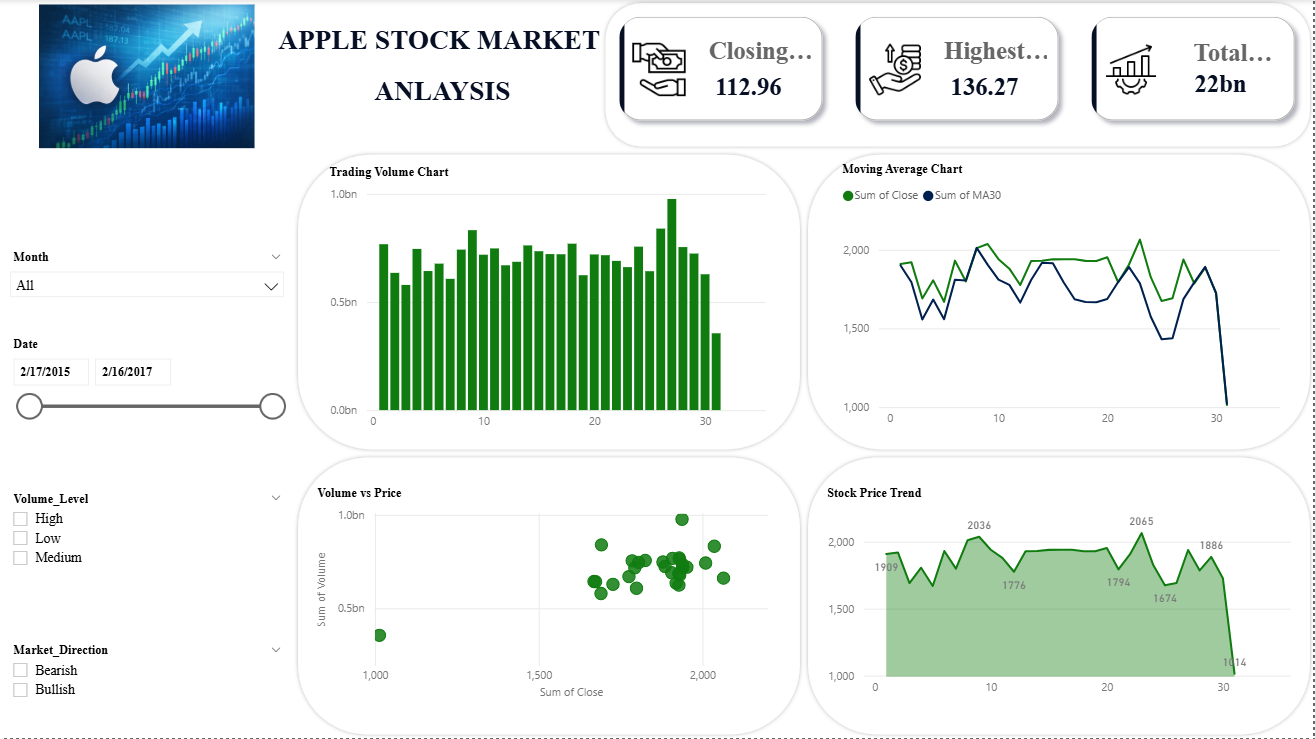

The page's visual inventory and layout, read from the dashboard file:
{"tool":"powerbi","page":{"name":"Page 1","canvas":[1280,720],"ordinal":0},"visuals":[{"type":"shape","box":[612.4,0,667.9,147.6],"z":0},{"type":"cardVisual","fields":{"Data":["Avg(cleaned_AAPL_stock.Close)","Max(cleaned_AAPL_stock.High)","Sum(cleaned_AAPL_stock.Volume)"]},"box":[612.4,0,667.9,135.9],"z":1000},{"type":"shape","box":[783.3,147.6,496.9,295.2],"z":1001},{"type":"lineChart","title":"Moving Average Chart","fields":{"Category":["cleaned_AAPL_stock.Date.Variation.Date Hierarchy.Day"],"Y":["Sum(cleaned_AAPL_stock.Close)","Sum(cleaned_AAPL_stock.MA30)"]},"box":[815.5,159.3,437,266],"z":1002},{"type":"shape","box":[286.4,147.6,496.9,295.2],"z":1003},{"type":"clusteredColumnChart","title":"Trading Volume Chart","fields":{"Category":["cleaned_AAPL_stock.Date.Variation.Date Hierarchy.Day"],"Y":["Sum(cleaned_AAPL_stock.Volume)"]},"box":[315.7,162.2,437,266],"z":1004},{"type":"shape","box":[783.3,442.8,496.9,277.7],"z":1005},{"type":"areaChart","title":"Stock Price Trend","fields":{"Category":["cleaned_AAPL_stock.Date.Variation.Date Hierarchy.Day"],"Y":["Sum(cleaned_AAPL_stock.Close)"]},"box":[800.9,475,461.8,211.9],"z":1006},{"type":"shape","box":[286.4,442.8,496.9,277.7],"z":1007},{"type":"scatterChart","title":"Volume vs Price","fields":{"X":["Sum(cleaned_AAPL_stock.Close)"],"Y":["Sum(cleaned_AAPL_stock.Volume)"],"Category":["cleaned_AAPL_stock.Date.Variation.Date Hierarchy.Day"]},"box":[304,475,461.8,211.9],"z":1008},{"type":"slicer","fields":{"Values":["cleaned_AAPL_stock.Date"]},"box":[0,324.4,286.4,150.5],"z":1009},{"type":"slicer","fields":{"Values":["cleaned_AAPL_stock.Volume_Level"]},"box":[0,475,286.4,149.1],"z":1010},{"type":"slicer","fields":{"Values":["cleaned_AAPL_stock.Market_Direction"]},"box":[0,622.6,286.4,97.9],"z":1011},{"type":"slicer","fields":{"Values":["cleaned_AAPL_stock.Month"]},"box":[0,239.7,286.4,55.5],"z":1012},{"type":"image","box":[0,0,286,150],"z":1013},{"type":"textbox","box":[100,100,300,300],"z":1014},{"type":"textbox","box":[249.9,0,362.4,150.5],"z":1015}]}

Visuals, with their boxes in screenshot pixels (x1, y1, x2, y2), scaled from the page's 1280x720 canvas onto the 1316x739 screenshot:
shape: pyautogui.locateOnScreen(630, 0, 1315, 151)
cardVisual - Avg(cleaned_AAPL_stock.Close) x Max(cleaned_AAPL_stock.High): pyautogui.locateOnScreen(630, 0, 1315, 139)
shape: pyautogui.locateOnScreen(805, 151, 1315, 454)
"Moving Average Chart" lineChart: pyautogui.locateOnScreen(838, 164, 1288, 437)
shape: pyautogui.locateOnScreen(294, 151, 805, 454)
"Trading Volume Chart" clusteredColumnChart: pyautogui.locateOnScreen(325, 166, 774, 439)
shape: pyautogui.locateOnScreen(805, 454, 1315, 738)
"Stock Price Trend" areaChart: pyautogui.locateOnScreen(823, 488, 1298, 705)
shape: pyautogui.locateOnScreen(294, 454, 805, 738)
"Volume vs Price" scatterChart: pyautogui.locateOnScreen(313, 488, 787, 705)
slicer - cleaned_AAPL_stock.Date: pyautogui.locateOnScreen(0, 333, 294, 487)
slicer - cleaned_AAPL_stock.Volume_Level: pyautogui.locateOnScreen(0, 488, 294, 641)
slicer - cleaned_AAPL_stock.Market_Direction: pyautogui.locateOnScreen(0, 639, 294, 738)
slicer - cleaned_AAPL_stock.Month: pyautogui.locateOnScreen(0, 246, 294, 303)
image: pyautogui.locateOnScreen(0, 0, 294, 154)
textbox: pyautogui.locateOnScreen(103, 103, 411, 411)
textbox: pyautogui.locateOnScreen(257, 0, 630, 154)
